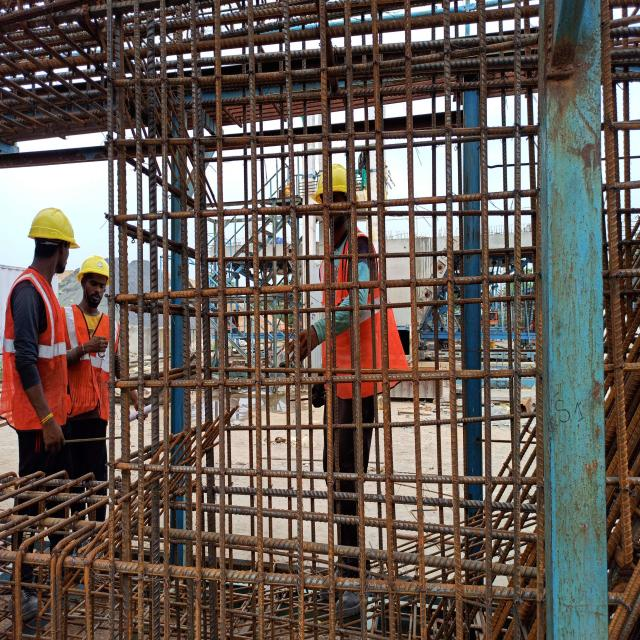Hardhat: (31, 211, 77, 246), (312, 166, 349, 193)
Person: (309, 164, 402, 570)
Safetyvest: (321, 242, 407, 393), (5, 275, 72, 439)
